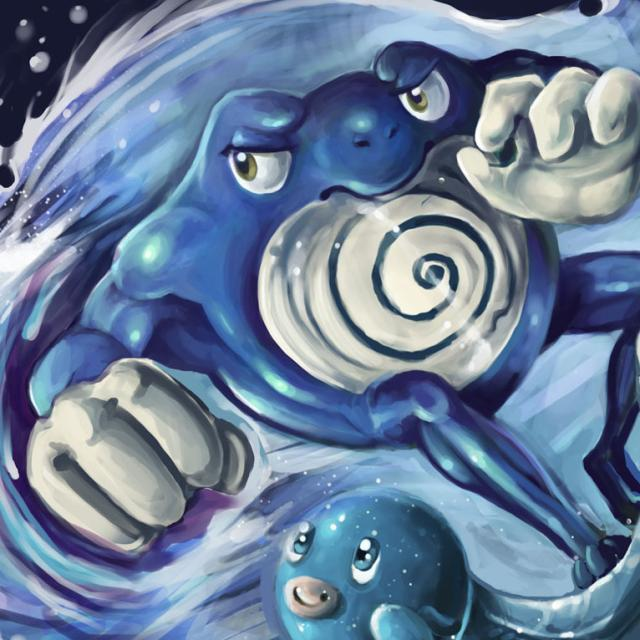Poliwrath: (141, 24, 621, 463)
